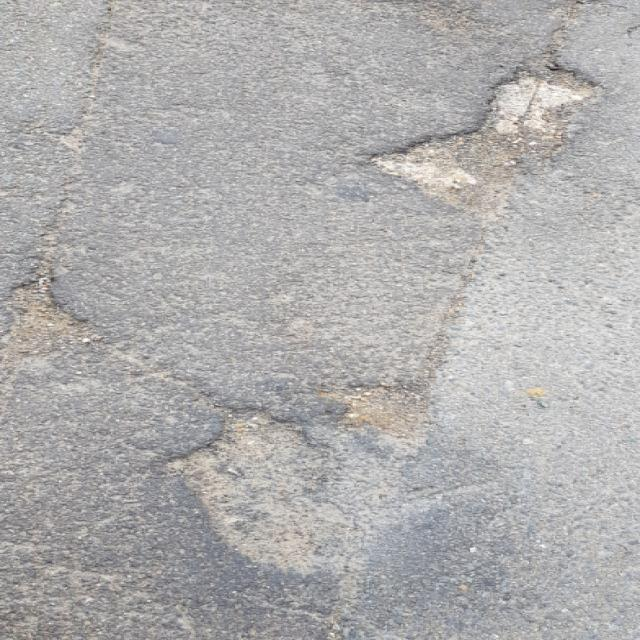pothole: (358, 52, 610, 216), (160, 396, 358, 582)
